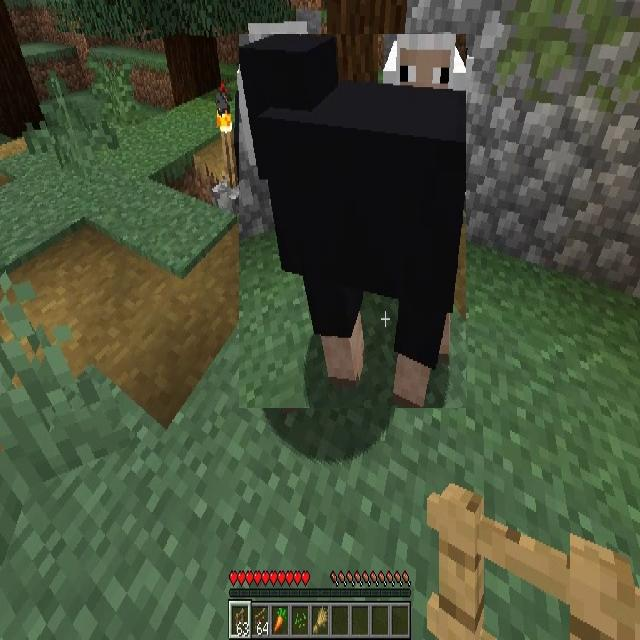sheep: (239, 34, 466, 408), (238, 20, 324, 91)
